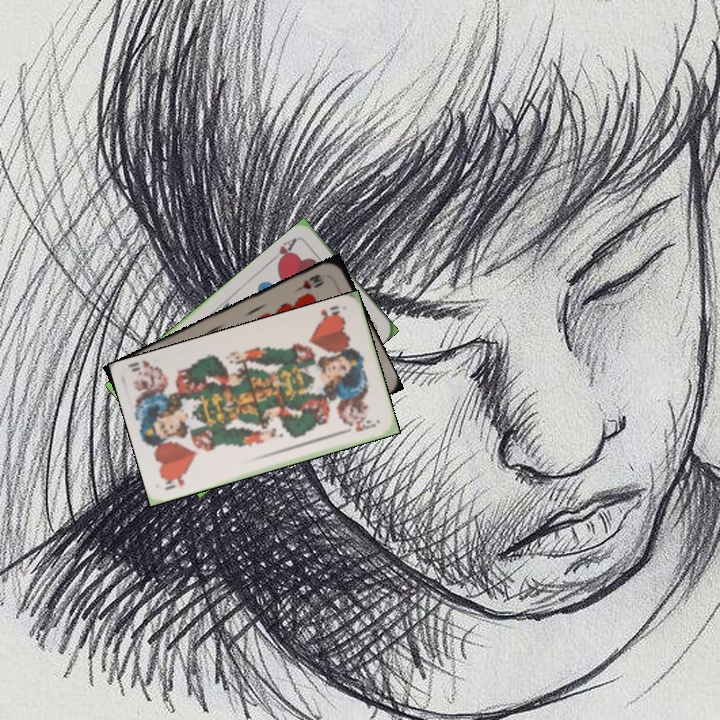H10: (292, 270, 327, 294)
HA: (267, 234, 300, 269)
HO: (312, 301, 346, 326), (160, 471, 187, 493)
